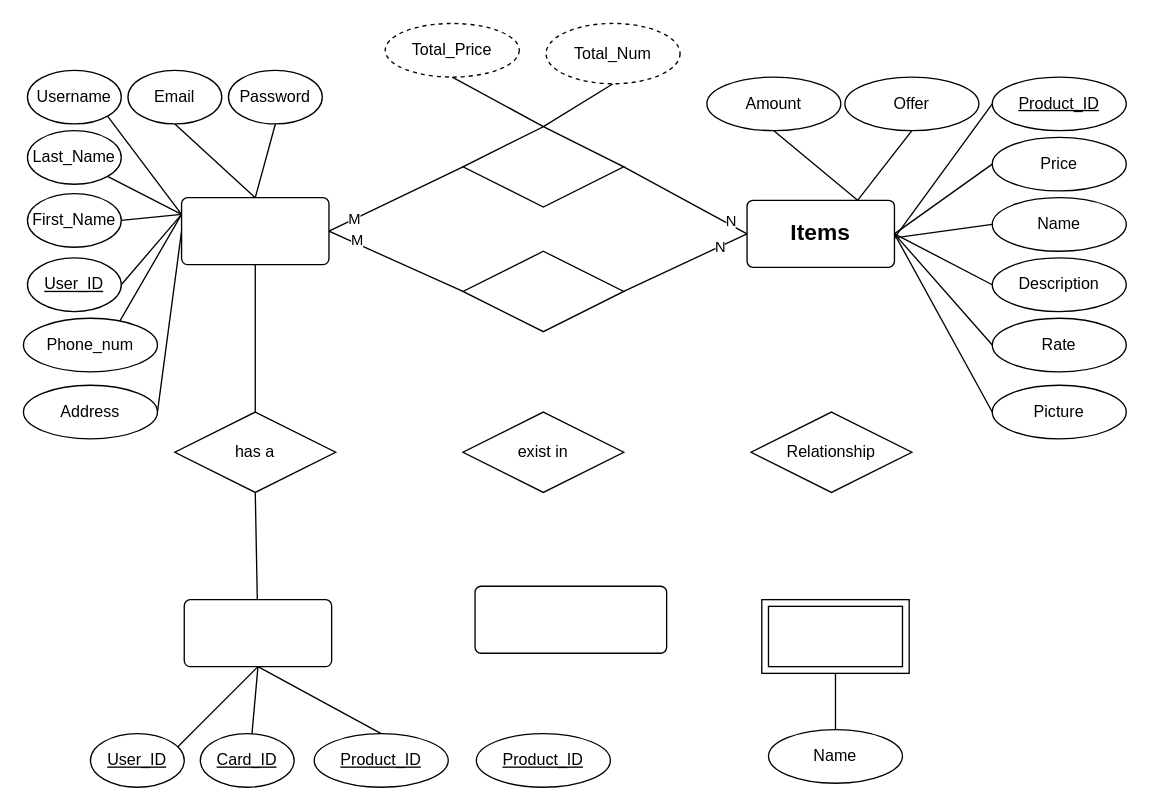
The diagram is 1150 pixels wide and 811 high, and some of its shapes have lost their labels. Here are the shapes that lost their labels. From the top down, the box of each, then its label:
(462, 125, 624, 207): Order
(180, 196, 329, 265): user
(462, 250, 624, 332): sell
(183, 598, 332, 667): Card
(474, 585, 667, 653): Order_History
(760, 598, 909, 673): Category
